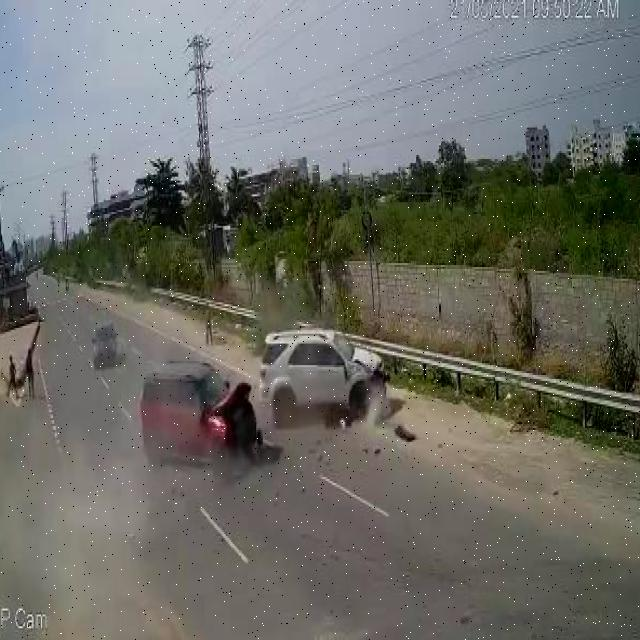accident: (127, 304, 422, 495)
